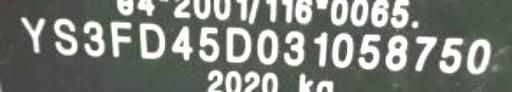letter: (134, 21, 170, 60), (16, 11, 46, 57), (50, 15, 80, 57), (222, 23, 252, 65), (384, 31, 412, 75), (464, 34, 492, 75), (79, 20, 107, 59), (256, 25, 282, 67), (413, 34, 439, 76), (170, 22, 196, 63), (329, 30, 355, 71), (438, 34, 464, 75), (108, 19, 134, 58), (357, 30, 381, 71), (198, 23, 222, 63), (282, 29, 306, 67), (312, 28, 330, 69)
